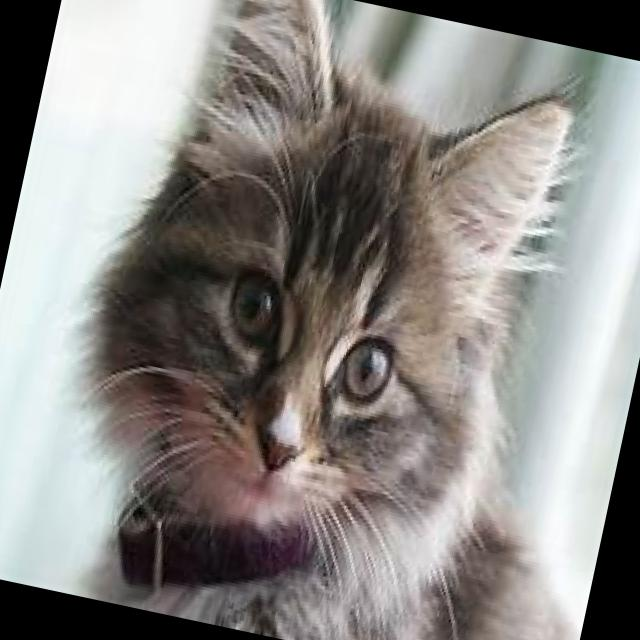animal: (20, 0, 640, 640)
